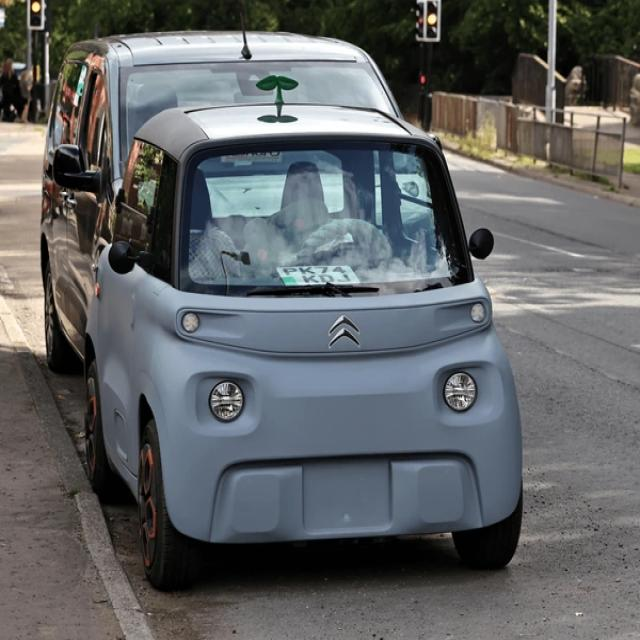citroen: (318, 312, 372, 353)
